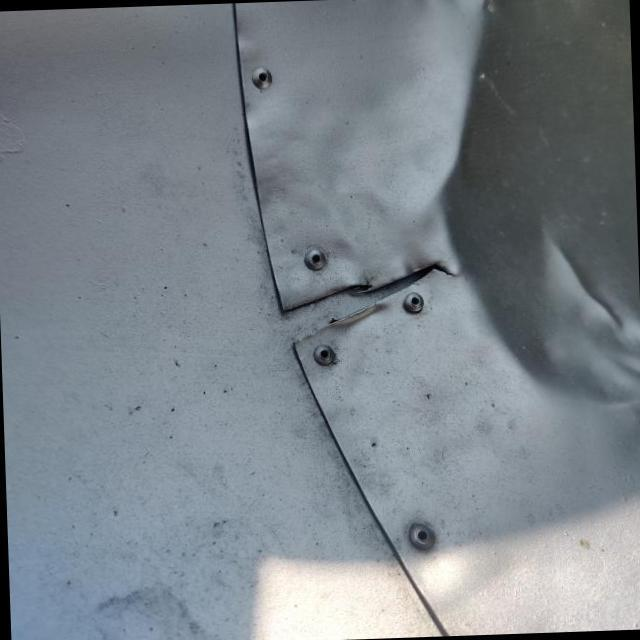Dent: (396, 0, 640, 445)
Rupture: (268, 243, 471, 368)
